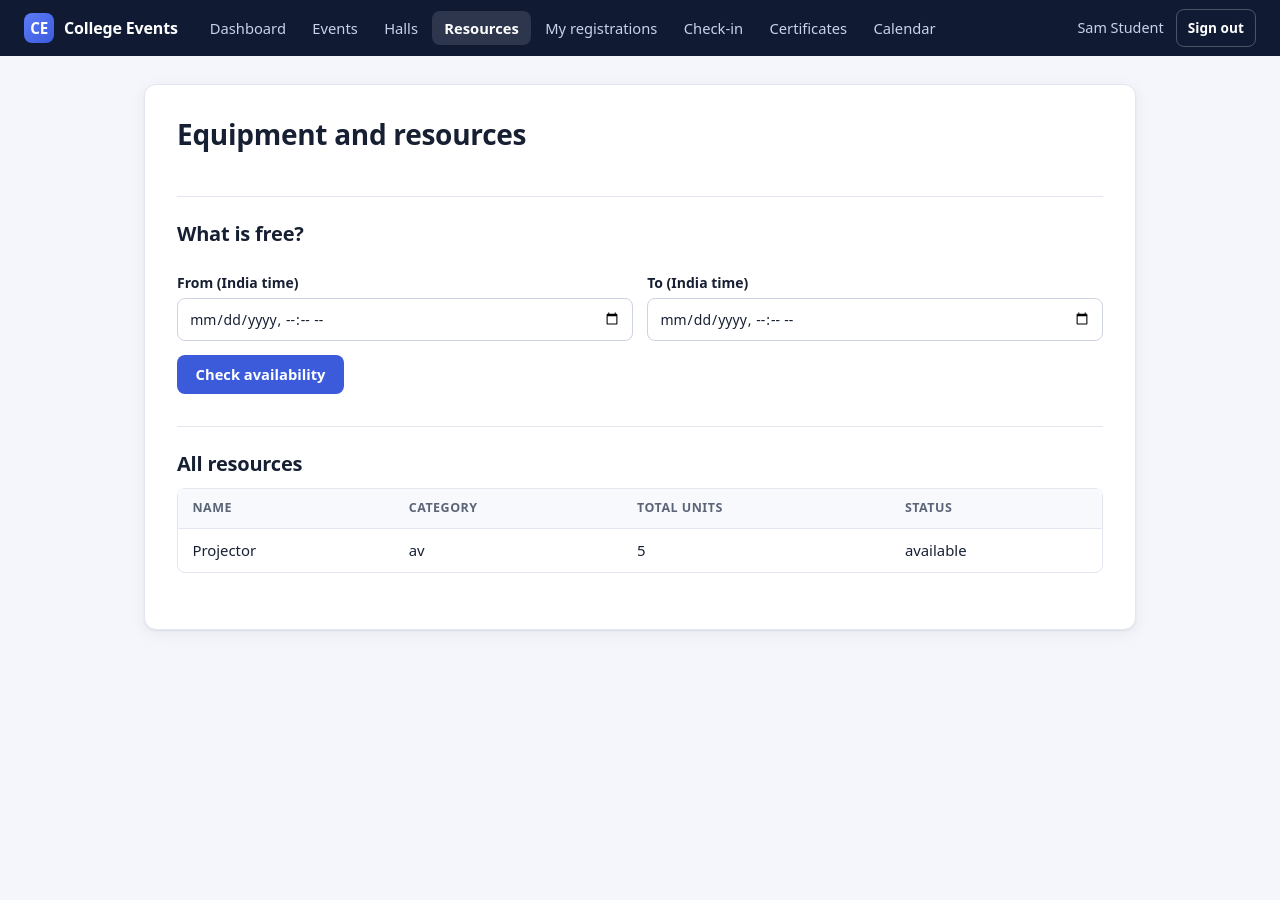
resources page › shows free units for a time window
This screenshot has width=1280, height=900.
Type "2031-03-01T10:00" into the field labelled "From (India time)" at (405, 320), box [177,298,633,341]
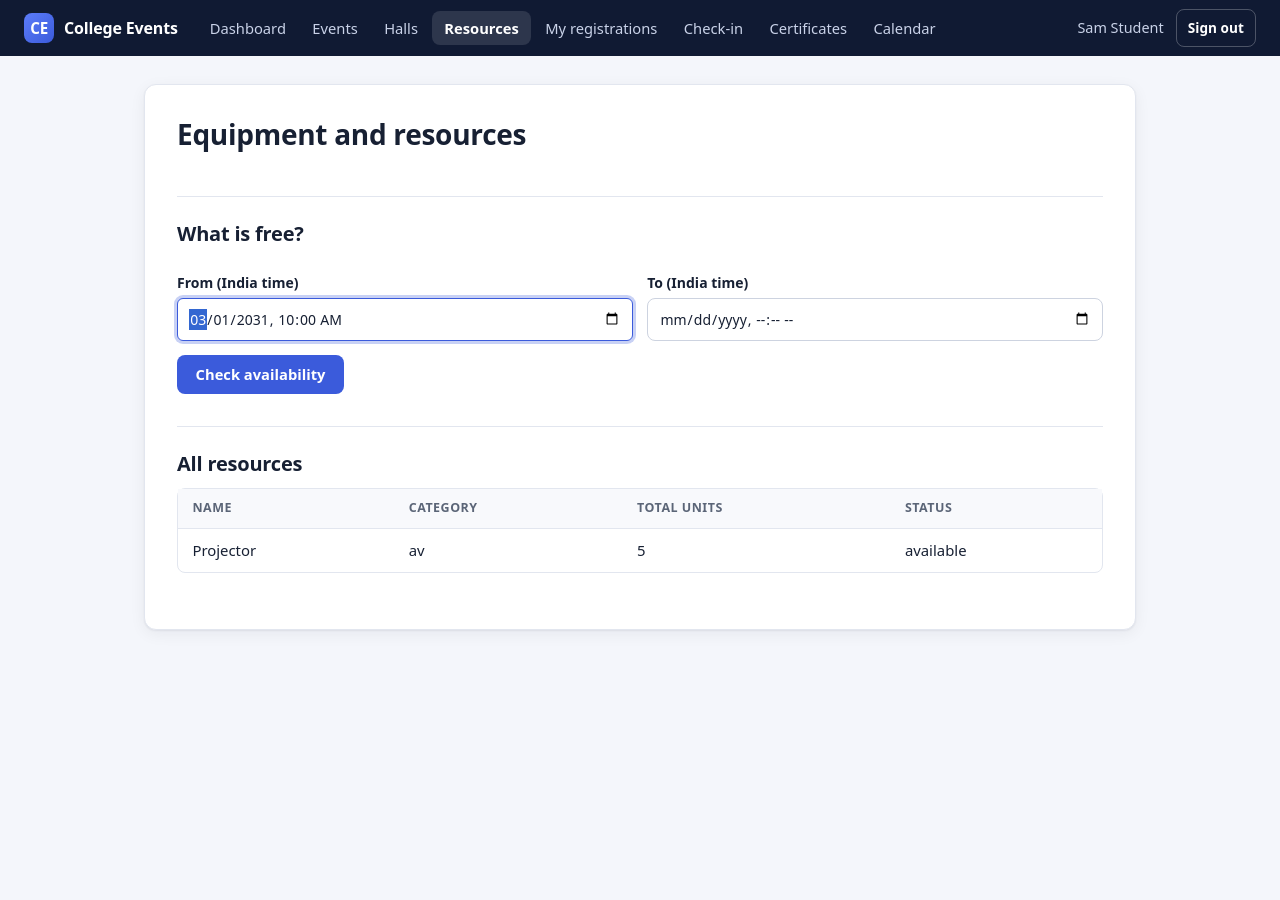
Type "2031-03-01T12:00" into the field labelled "To (India time)" at (875, 320), box [647,298,1103,341]
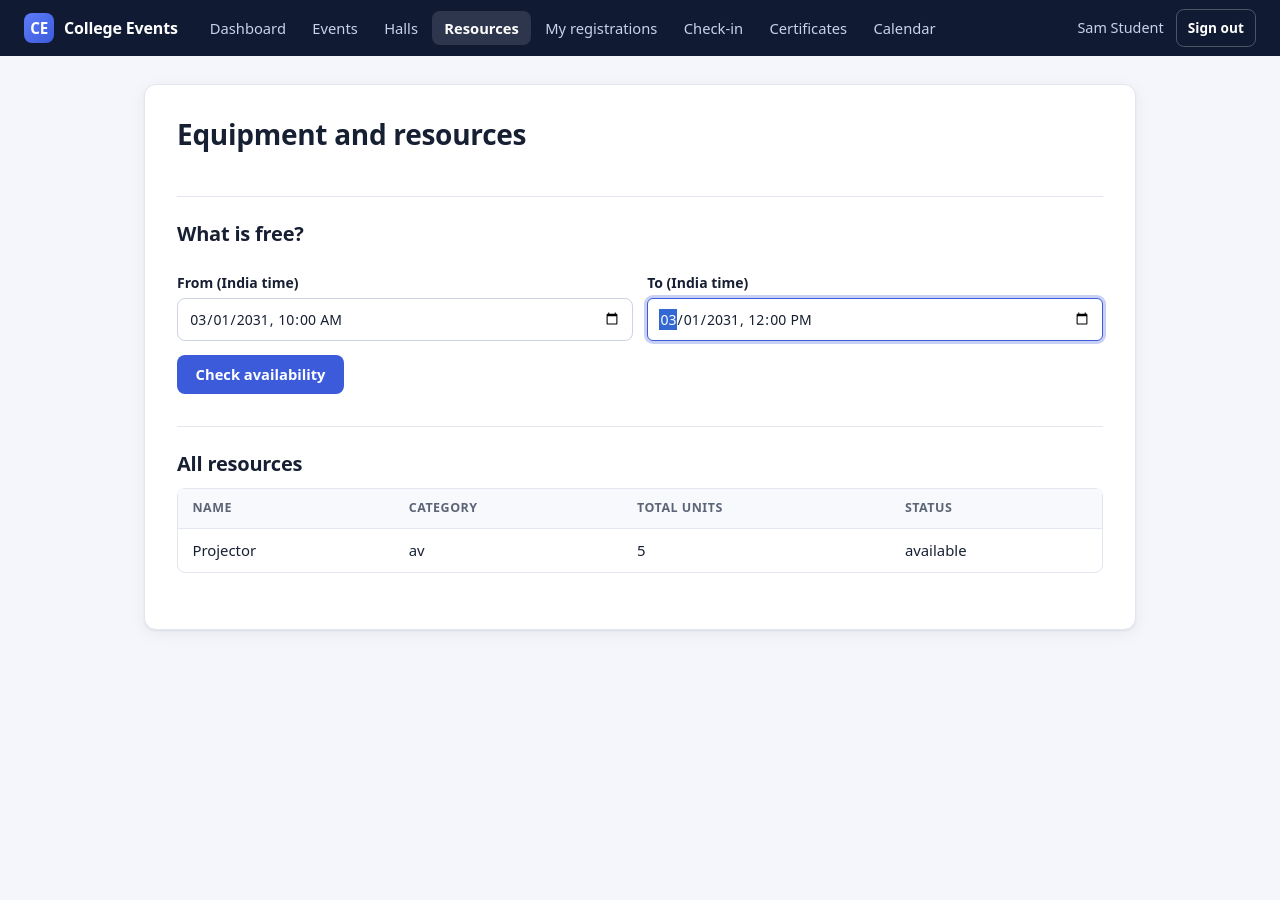
Click the button "Check availability" at (260, 374), box [177,355,344,394]
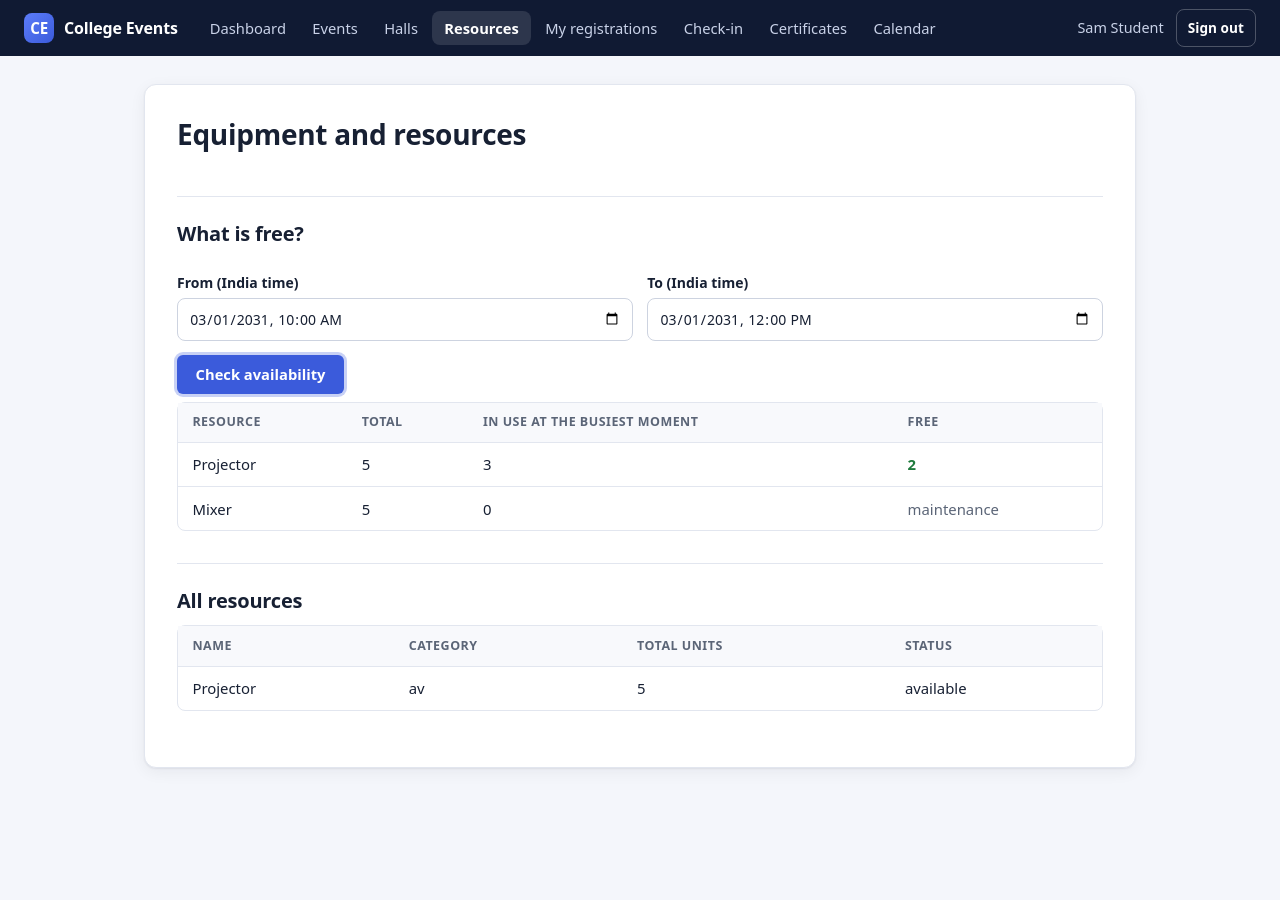
Expected: the text "2" is shown, [908,454,916,474]
Expected: the text "maintenance" is shown, [908,498,999,518]
